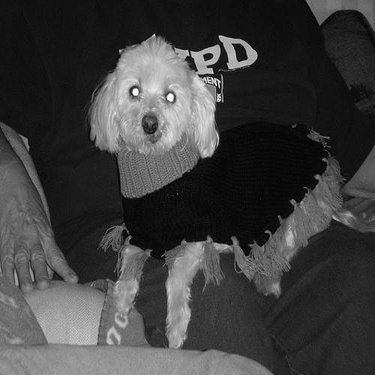dog: (54, 25, 372, 352)
